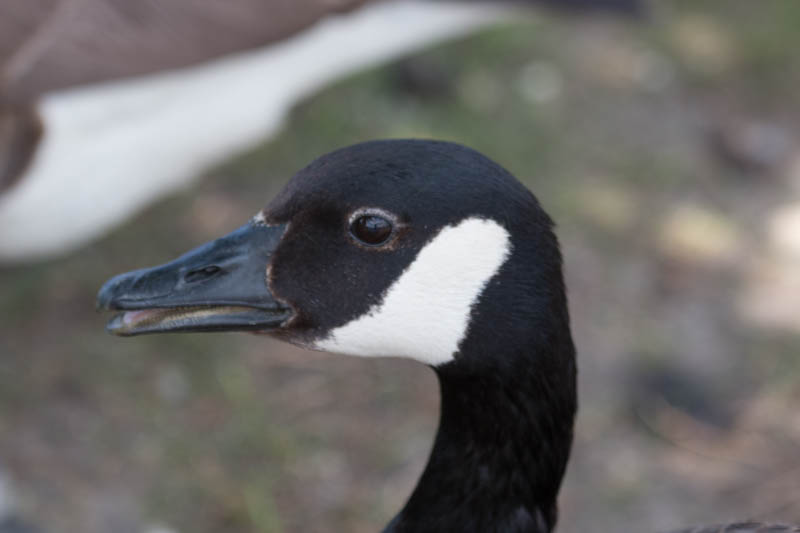goose-head: (94, 139, 572, 370)
